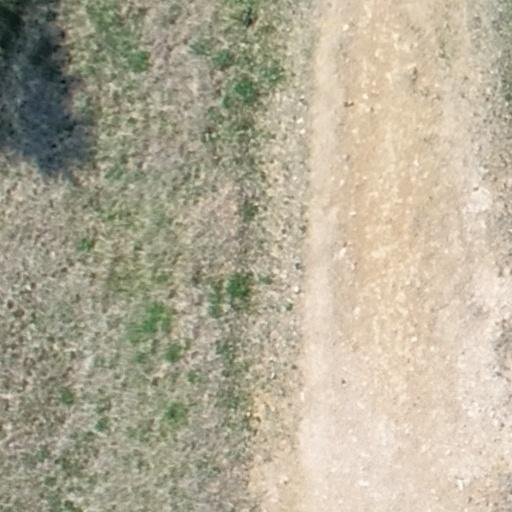stone: (344, 259, 361, 273), (406, 61, 418, 77), (341, 96, 354, 110), (1, 298, 11, 313), (339, 248, 349, 257), (281, 475, 291, 483)
